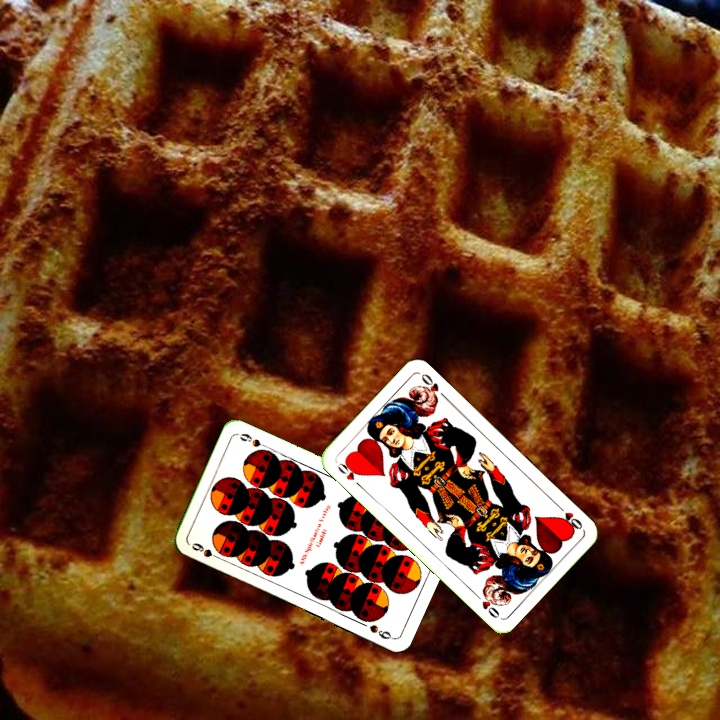HO: (333, 457, 365, 490), (553, 500, 585, 533)
S9: (187, 539, 224, 563)
